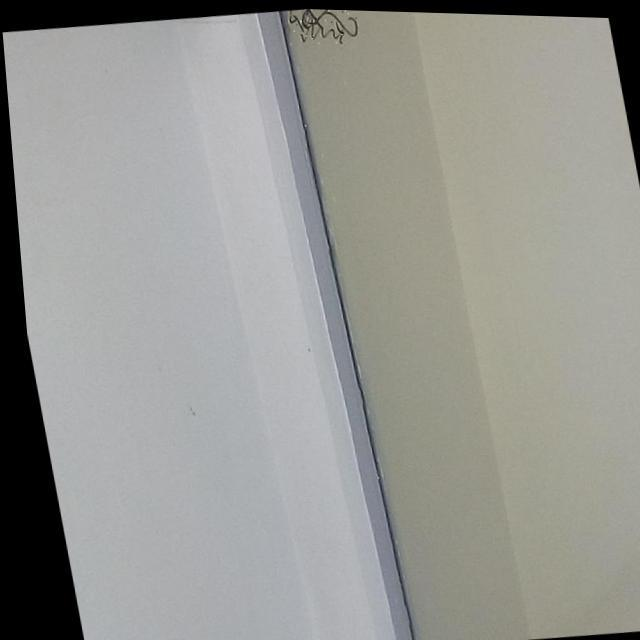-: (283, 6, 364, 48)
